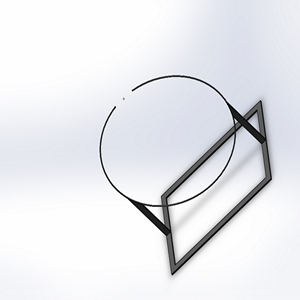circle: (97, 72, 274, 274)
